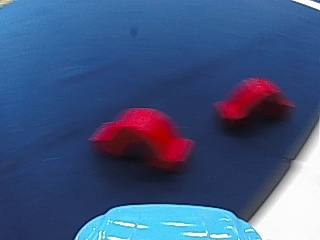bridge: (86, 102, 202, 173), (210, 74, 294, 132)
